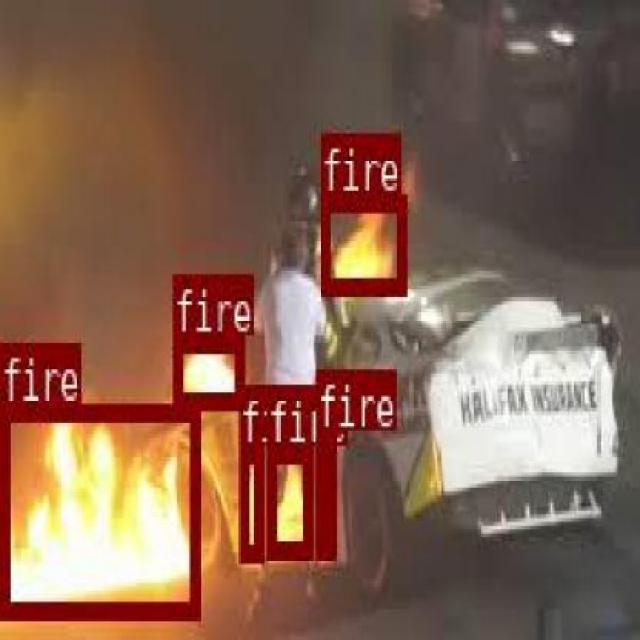fire: (0, 402, 197, 616), (318, 192, 404, 292), (264, 442, 310, 556), (172, 332, 240, 405), (238, 443, 262, 557), (315, 427, 333, 556)
